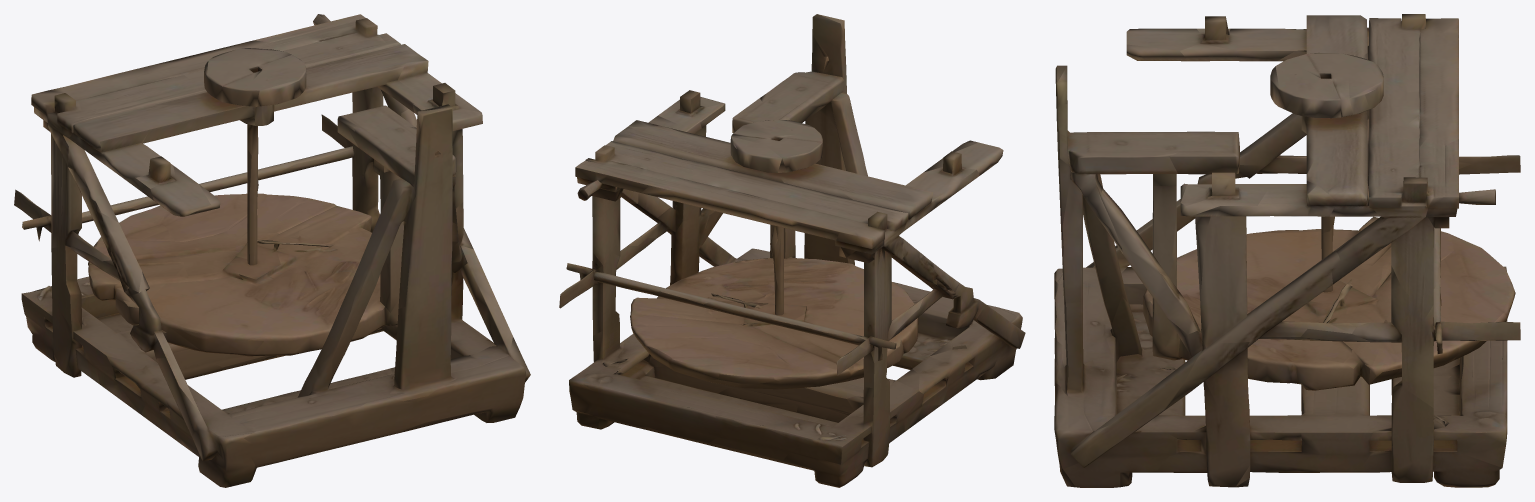
The model's file is potters_wheel.glb.
The picture shows the model from 3 angles, left to right: view 1: azimuth 30°, elevation 25°; view 2: azimuth 150°, elevation 25°; view 3: azimuth 270°, elevation 25°; orthographic projection. The views are drawn at different scales.
Visible parts, largest first — view 1: tripo_node_b5ae59d8-7858-4be8-a2d1-bd7b0c8738bd; view 2: tripo_node_b5ae59d8-7858-4be8-a2d1-bd7b0c8738bd; view 3: tripo_node_b5ae59d8-7858-4be8-a2d1-bd7b0c8738bd.
Boxes of the visible parts, left/top/right/bottom form: tripo_node_b5ae59d8-7858-4be8-a2d1-bd7b0c8738bd: left=14, top=14, right=530, bottom=487; tripo_node_b5ae59d8-7858-4be8-a2d1-bd7b0c8738bd: left=559, top=14, right=1025, bottom=487; tripo_node_b5ae59d8-7858-4be8-a2d1-bd7b0c8738bd: left=1054, top=14, right=1520, bottom=487.
Size of the model in its own units: 0.9996 by 0.8671 by 0.9957.
1 material, 1 textured.
